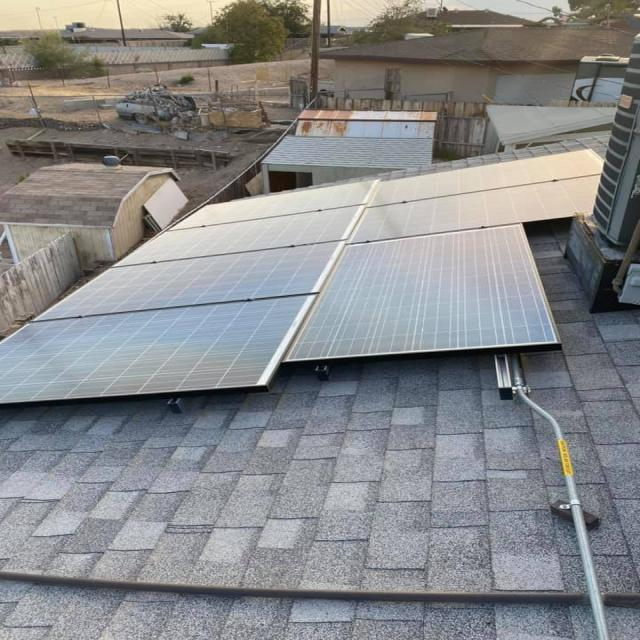dust-solar-panel: (0, 148, 608, 403)
